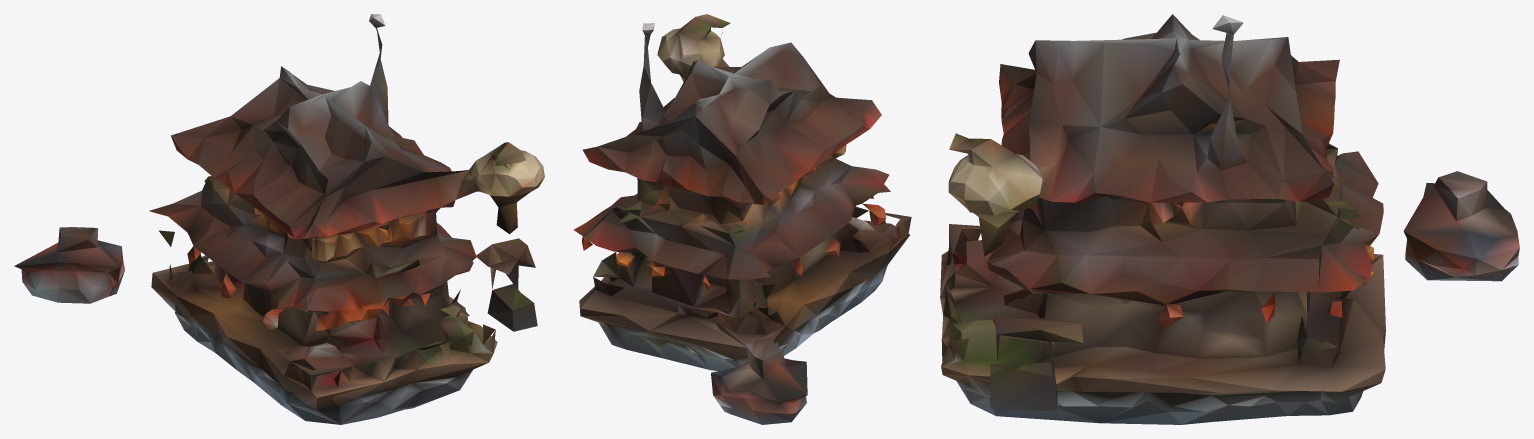
Rendered from bq_tavern.vc2.glb.
The picture shows the model from 3 angles, left to right: view 1: azimuth 30°, elevation 25°; view 2: azimuth 150°, elevation 25°; view 3: azimuth 270°, elevation 25°; orthographic projection. The views are drawn at different scales.
Parts seen in each view (by area): view 1: bq_tavern; view 2: bq_tavern; view 3: bq_tavern.
Boxes of the visible parts, x1,y1,x2,y2 form: bq_tavern: (14, 14, 544, 424); bq_tavern: (574, 14, 911, 424); bq_tavern: (940, 14, 1519, 424).
Bounding box in the file's own units: 1.83 × 1.57 × 1.98.
